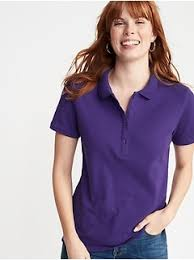C_polo shirt: (45, 61, 194, 209)
